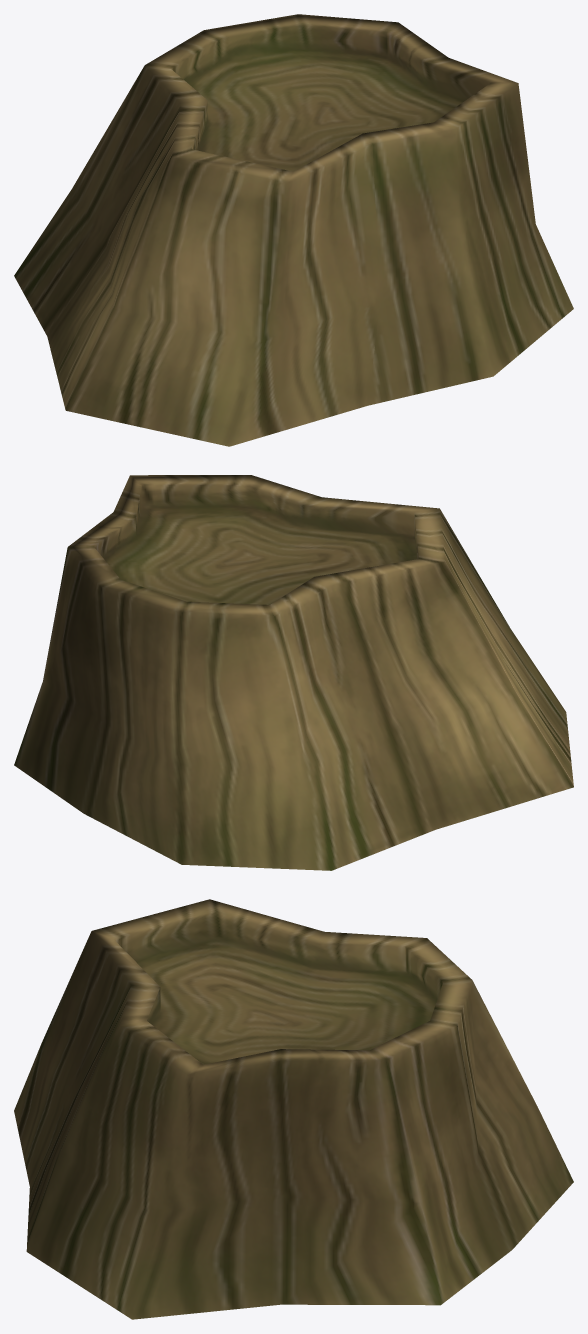
File: 001KirikabuM01.fbx
3 views of the same model, one above another, from view 1: azimuth 30°, elevation 25°; view 2: azimuth 150°, elevation 25°; view 3: azimuth 270°, elevation 25° (orthographic). The views are drawn at different scales.
Visible parts, largest first — view 1: kirikabuM01; view 2: kirikabuM01; view 3: kirikabuM01.
Part boxes in pixels (x1=…): kirikabuM01: x1=14, y1=14, x2=573, y2=446; kirikabuM01: x1=14, y1=475, x2=573, y2=870; kirikabuM01: x1=14, y1=899, x2=573, y2=1319.
Bounding box in the file's own units: 139 × 58.4 × 129.
1 material, 1 textured.
